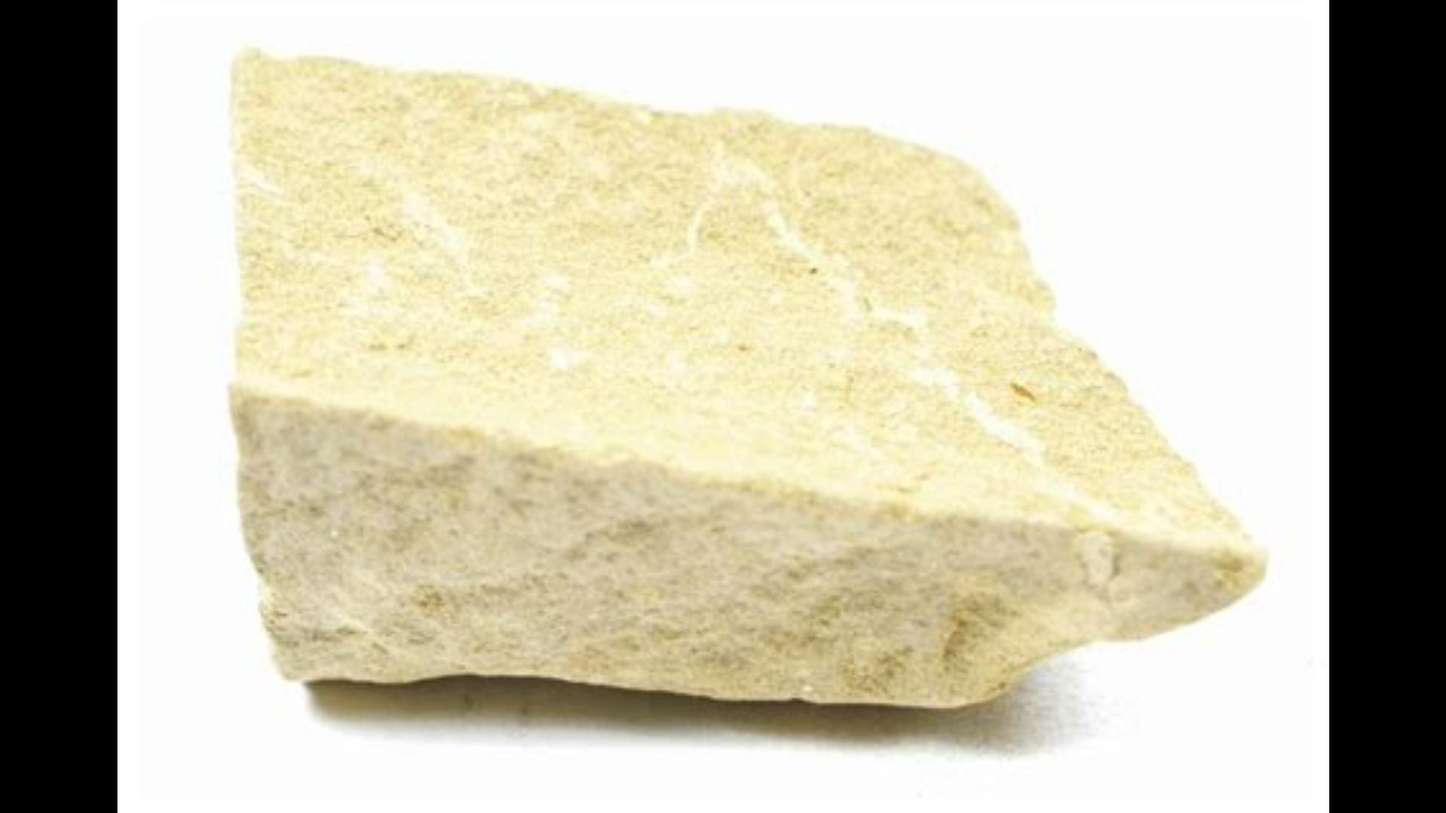rock: (234, 54, 1258, 701)
